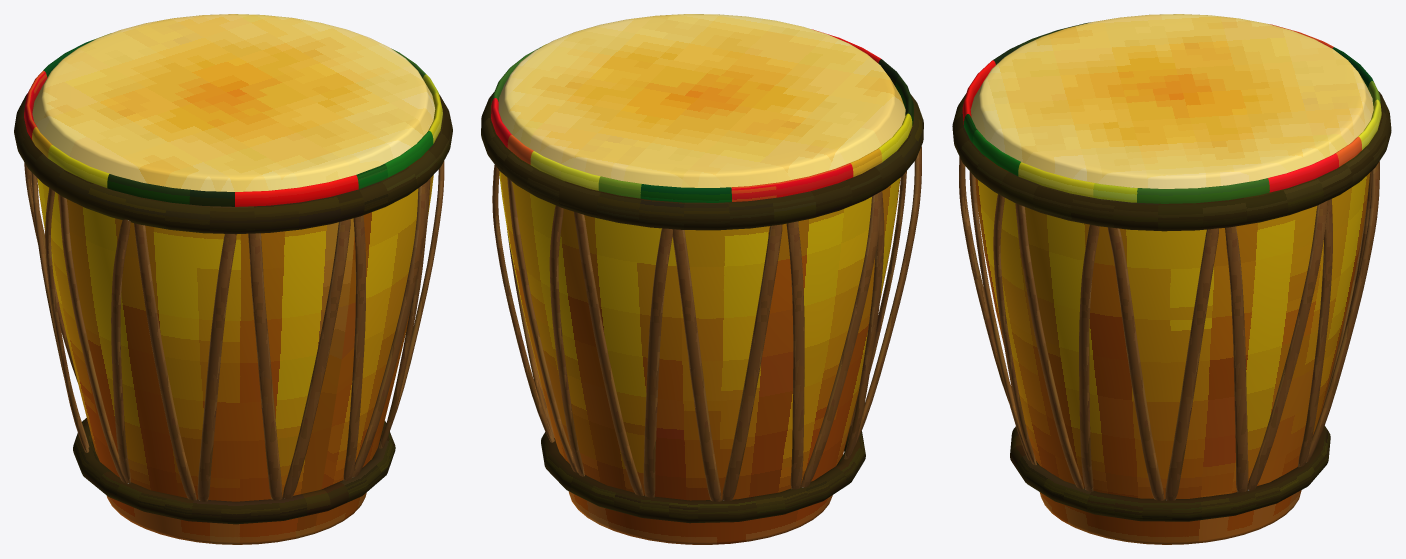
The model's file is bongo.obj.
3 views of the same model, side by side, from view 1: azimuth 30°, elevation 25°; view 2: azimuth 150°, elevation 25°; view 3: azimuth 270°, elevation 25° (orthographic).
Parts seen in each view (by area): view 1: DrawCall_422, DrawCall_423, DrawCall_425, DrawCall_426, DrawCall_424; view 2: DrawCall_422, DrawCall_423, DrawCall_425, DrawCall_424, DrawCall_426; view 3: DrawCall_422, DrawCall_423, DrawCall_425, DrawCall_424, DrawCall_426.
Boxes of the visible parts, x1,y1,x2,y2 form: DrawCall_422: (32, 14, 435, 544); DrawCall_423: (24, 161, 444, 501); DrawCall_425: (14, 93, 452, 234); DrawCall_426: (73, 418, 395, 524); DrawCall_424: (24, 33, 442, 206); DrawCall_422: (498, 14, 905, 544); DrawCall_423: (492, 146, 921, 501); DrawCall_425: (481, 92, 923, 230); DrawCall_424: (491, 29, 913, 202); DrawCall_426: (541, 423, 865, 523); DrawCall_422: (970, 14, 1373, 544); DrawCall_423: (959, 156, 1379, 500); DrawCall_425: (952, 91, 1391, 231); DrawCall_424: (962, 22, 1381, 203); DrawCall_426: (1010, 426, 1330, 521).
Bounding box in the file's own units: 13.05 × 12.98 × 12.99.
5 materials, 5 textured.
